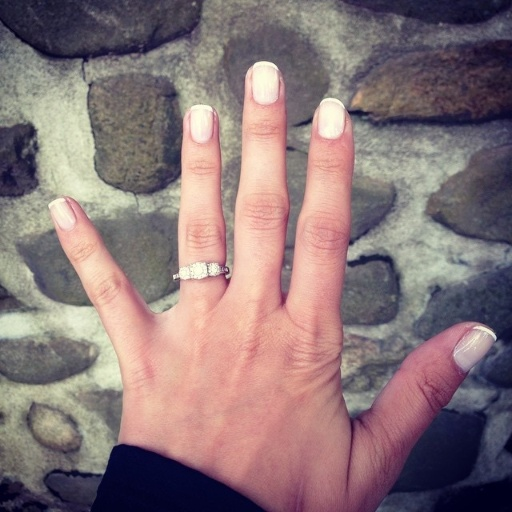hand: (43, 75, 481, 512)
